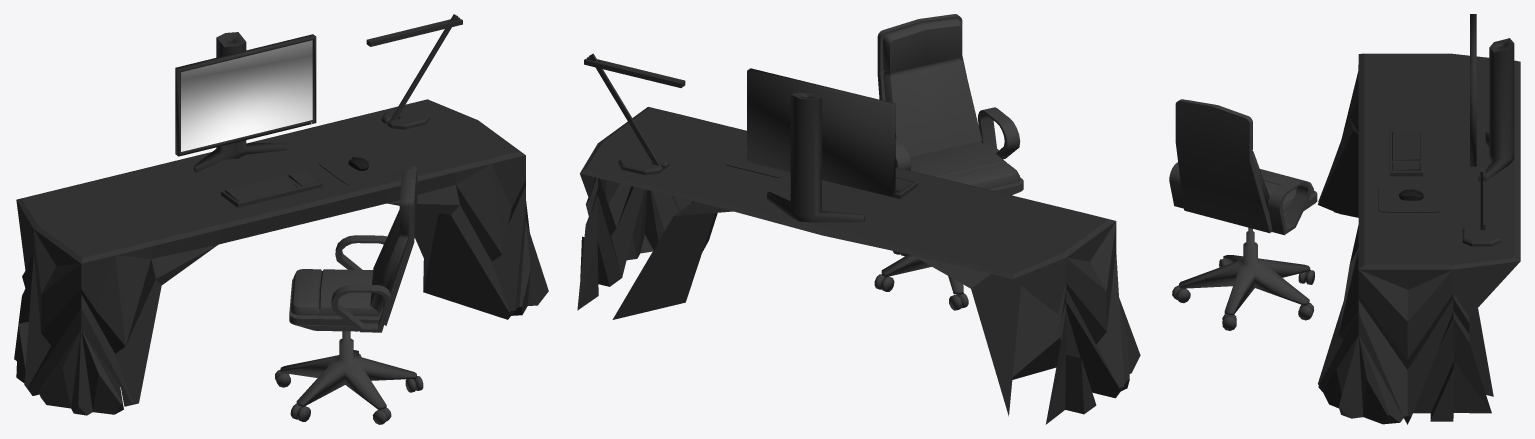
File: desk-transformed.glb
3 renders of one model, left to right at view 1: azimuth 30°, elevation 25°; view 2: azimuth 150°, elevation 25°; view 3: azimuth 270°, elevation 25°, orthographic. The views are drawn at different scales.
Visible parts, largest first — view 1: Desk.002, Monitor.001, Chair.001, Moouse_Pad.001; view 2: Desk.002, Monitor.001, Chair.001, Moouse_Pad.001; view 3: Desk.002, Chair.001, Monitor.001, Moouse_Pad.001.
Part boxes in pixels (x1=…): Desk.002: x1=14, y1=99, x2=548, y2=415; Monitor.001: x1=175, y1=14, x2=462, y2=207; Chair.001: x1=275, y1=165, x2=423, y2=424; Moouse_Pad.001: x1=319, y1=149, x2=400, y2=185; Desk.002: x1=577, y1=107, x2=1140, y2=424; Monitor.001: x1=584, y1=53, x2=918, y2=222; Chair.001: x1=874, y1=14, x2=1023, y2=310; Moouse_Pad.001: x1=724, y1=146, x2=789, y2=177; Desk.002: x1=1318, y1=53, x2=1520, y2=424; Chair.001: x1=1169, y1=99, x2=1317, y2=330; Monitor.001: x1=1389, y1=14, x2=1514, y2=246; Moouse_Pad.001: x1=1378, y1=185, x2=1440, y2=212.
Size of the model in its own units: 3.64 by 1.82 by 2.21.
Materials: 6 (6 with a texture image).
